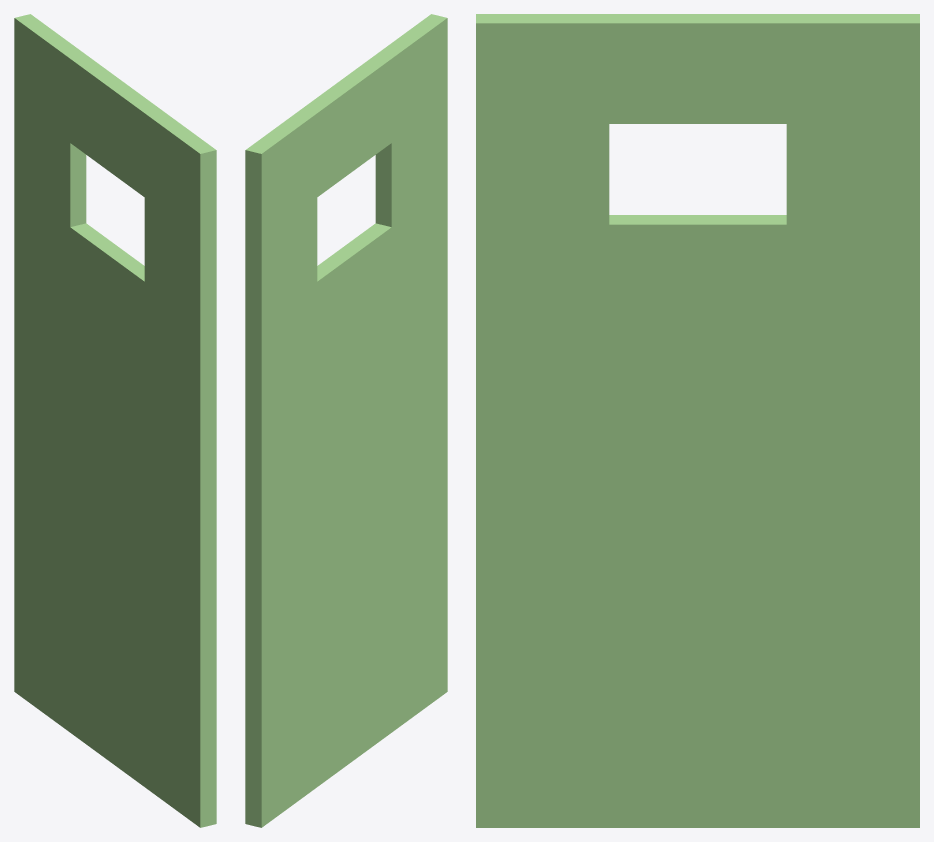
The model's file is Pared-Modular_DucSup.fbx.
The picture shows the model from 3 angles, left to right: view 1: azimuth 30°, elevation 25°; view 2: azimuth 150°, elevation 25°; view 3: azimuth 270°, elevation 25°; orthographic projection. The views are drawn at different scales.
Parts seen in each view (by area): view 1: Perad-Ducto-Sup; view 2: Perad-Ducto-Sup; view 3: Perad-Ducto-Sup.
Part boxes in pixels (x1,y1,x2,y2): Perad-Ducto-Sup: (14, 14, 216, 827); Perad-Ducto-Sup: (245, 14, 447, 827); Perad-Ducto-Sup: (476, 14, 919, 827).
Size of the model in its own units: 10 by 400 by 200.
